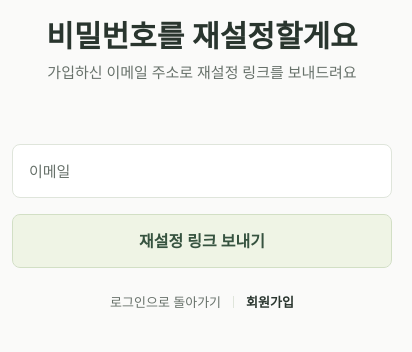
Test: ForgotPasswordPage › 이메일 없이 보내면 오류를 보여 준다
The image size is (412, 352).
Click the button "재설정 링크 보내기": [202, 241] box 12,214 -> 392,268
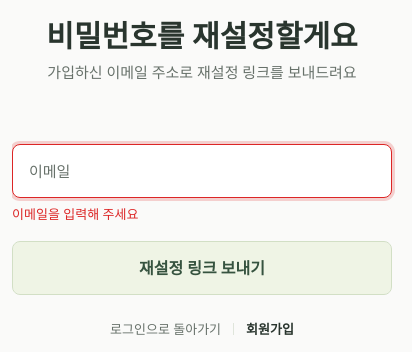
Check: the text "이메일을 입력해 주세요" is shown, box 12,205 -> 138,223
